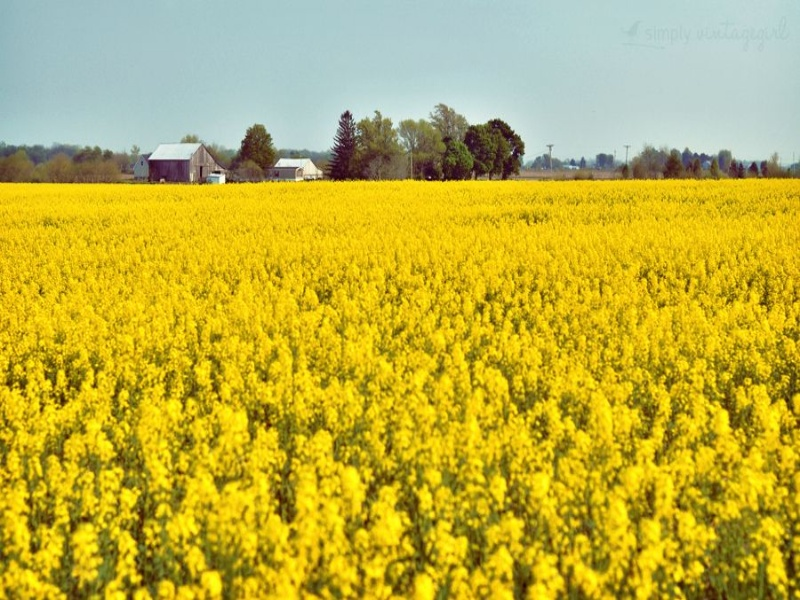mustard: (1, 232, 792, 590)
